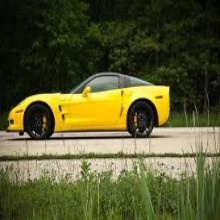no damage: (7, 72, 171, 141)
